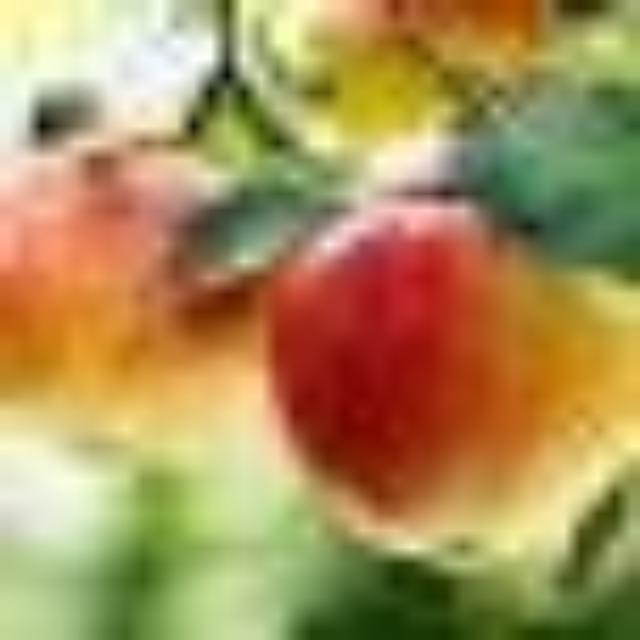Apple: (277, 203, 639, 531)
